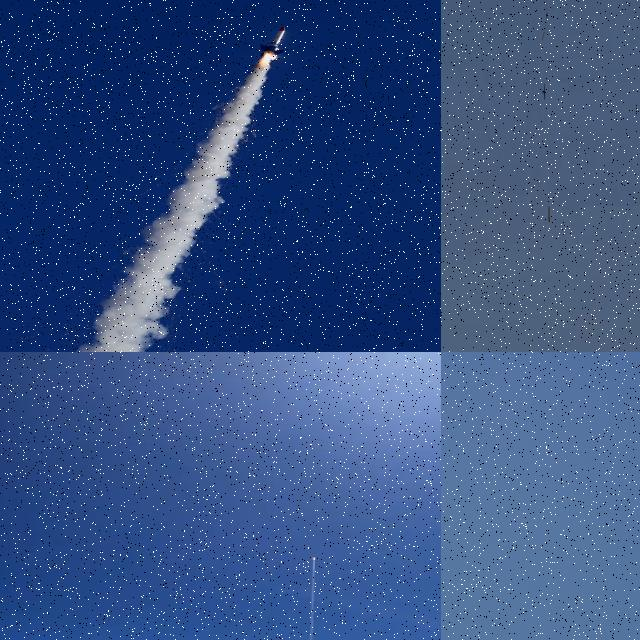Rocket: (259, 26, 287, 58), (548, 206, 550, 222), (313, 555, 316, 557)
